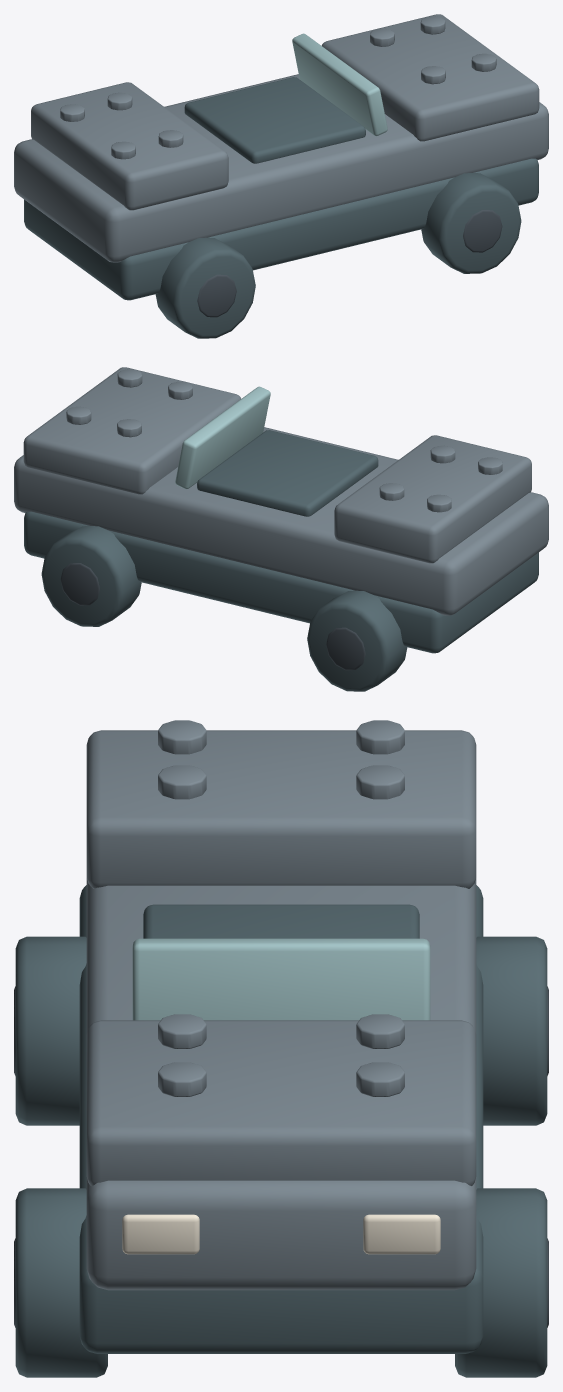
The model's file is brick-roadster.glb.
3 views of the same model, one above another, from view 1: azimuth 30°, elevation 25°; view 2: azimuth 150°, elevation 25°; view 3: azimuth 270°, elevation 25° (orthographic). The views are drawn at different scales.
Parts seen in each view (by area): view 1: catalog_surface_RealismUV, catalog_surface_UVMap; view 2: catalog_surface_RealismUV, catalog_surface_UVMap; view 3: catalog_surface_RealismUV, catalog_surface_UVMap.
Part boxes in pixels (left/top/right/bottom): catalog_surface_RealismUV: left=14, top=14, right=548, bottom=317; catalog_surface_UVMap: left=24, top=33, right=538, bottom=338; catalog_surface_RealismUV: left=14, top=367, right=548, bottom=670; catalog_surface_UVMap: left=24, top=386, right=538, bottom=691; catalog_surface_RealismUV: left=14, top=720, right=548, bottom=1327; catalog_surface_UVMap: left=15, top=885, right=547, bottom=1377.
Size of the model in its own units: 0.28 by 0.11 by 0.15.
